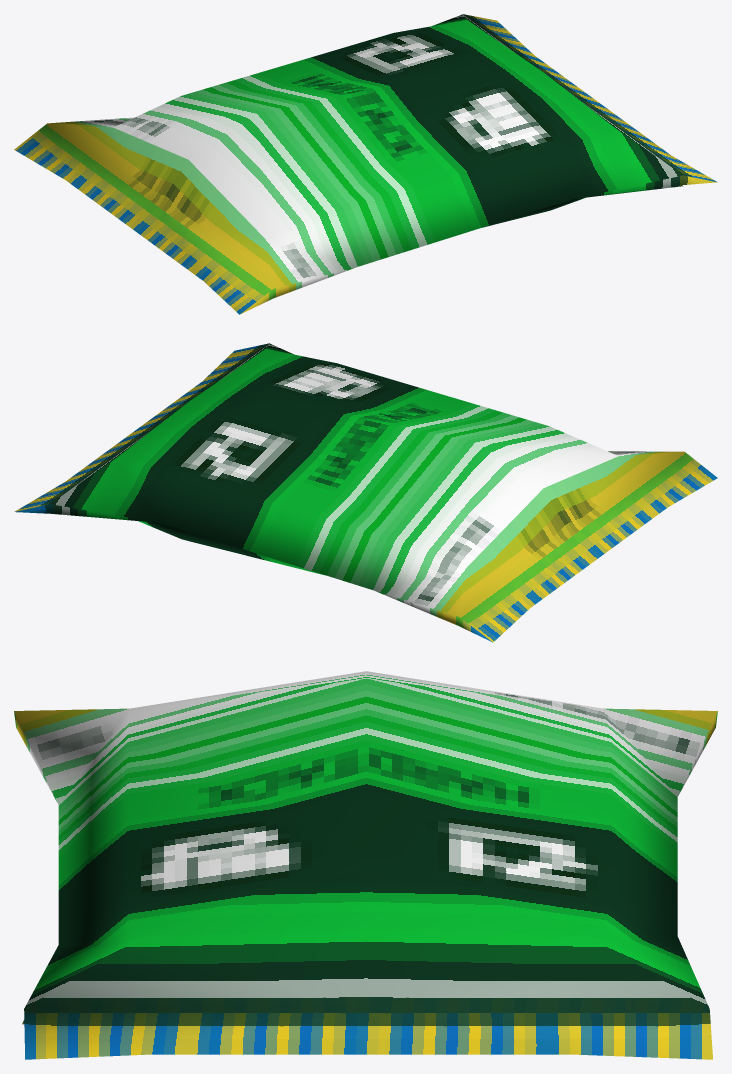
The model's file is Gunbang3.fbx.
3 views of the same model, one above another, from view 1: azimuth 30°, elevation 25°; view 2: azimuth 150°, elevation 25°; view 3: azimuth 270°, elevation 25° (orthographic). The views are drawn at different scales.
Visible parts, largest first — view 1: Chips001; view 2: Chips001; view 3: Chips001.
Boxes of the visible parts, x1=… form: Chips001: x1=14, y1=14, x2=717, y2=314; Chips001: x1=14, y1=343, x2=717, y2=642; Chips001: x1=14, y1=671, x2=717, y2=1059.
Size of the model in its own units: 61.14 by 12.8 by 49.71.
